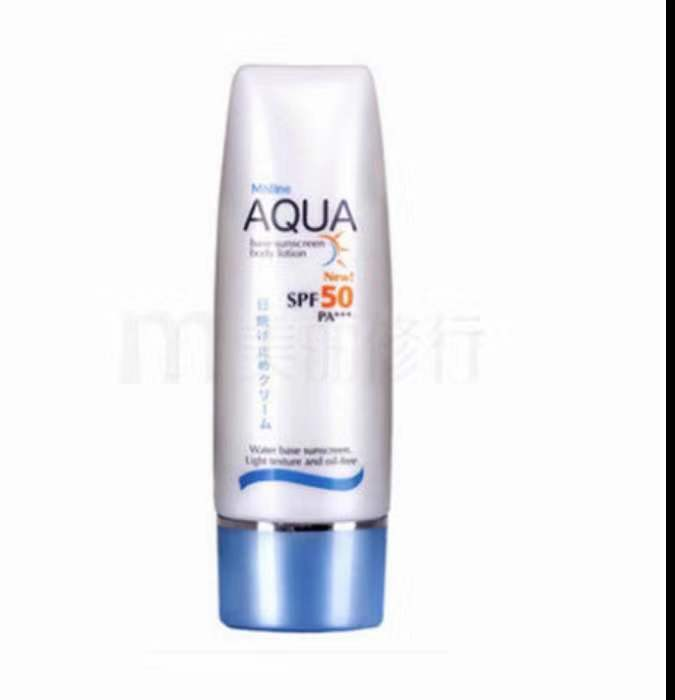cosmetic: (214, 67, 399, 630)
